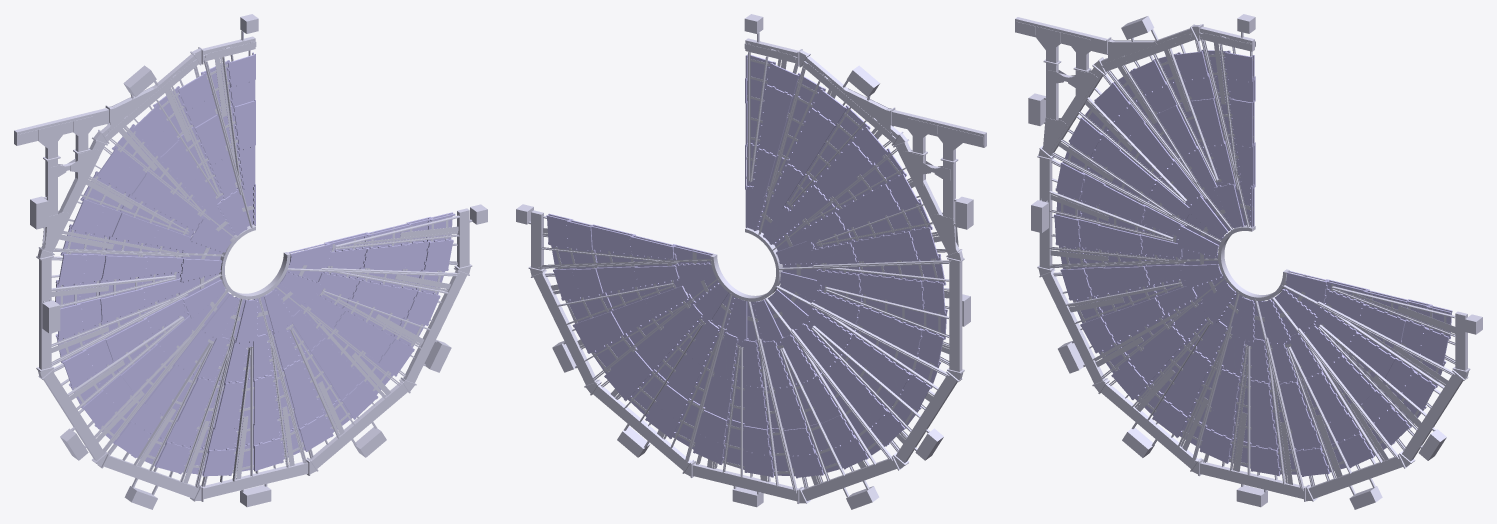
File: TGC-SideC-cut3.glb
3 renders of one model, left to right at view 1: azimuth 30°, elevation 25°; view 2: azimuth 150°, elevation 25°; view 3: azimuth 330°, elevation 25°, orthographic.
Visible parts, largest first — view 1: S__2BDB9588, S__2D10D4C8; view 2: S__2BDB9588, S__2D10D4C8; view 3: S__2BDB9588, S__2D10D4C8.
Part boxes in pixels (box(x1,y1,x2,y2)): S__2BDB9588: box(55, 52, 455, 476); S__2D10D4C8: box(14, 14, 487, 509); S__2BDB9588: box(546, 54, 947, 478); S__2D10D4C8: box(516, 14, 986, 509); S__2BDB9588: box(1054, 49, 1452, 476); S__2D10D4C8: box(1015, 14, 1482, 509).
Bounding box in the file's own units: 25.18 × 24.98 × 1.08.
